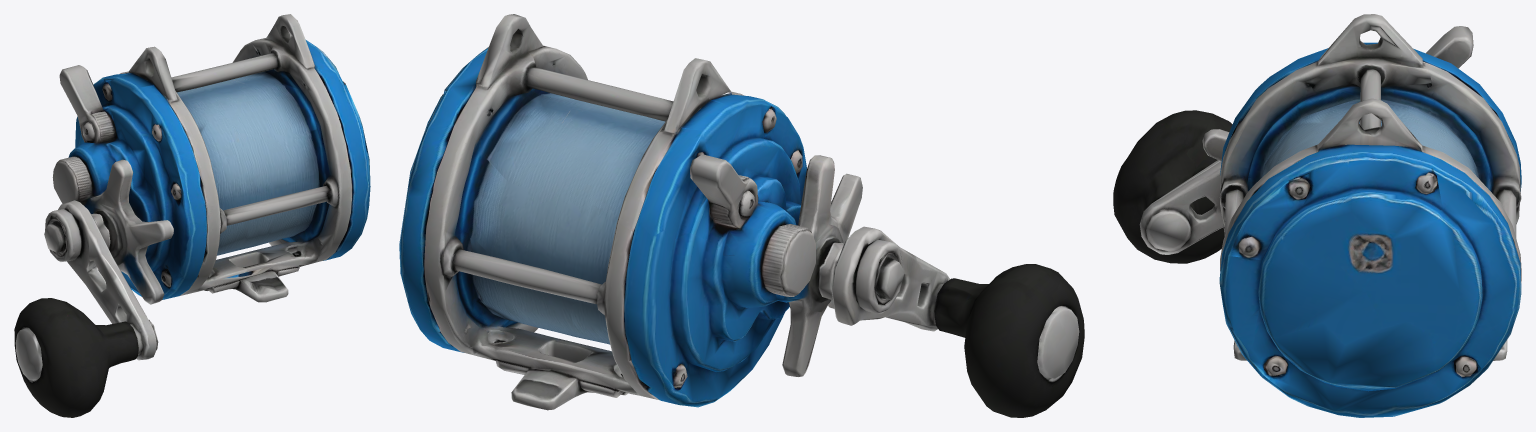
Rendered from gear-reel5.glb.
3 views of the same model, side by side, from view 1: azimuth 30°, elevation 25°; view 2: azimuth 150°, elevation 25°; view 3: azimuth 270°, elevation 25° (orthographic). The views are drawn at different scales.
Parts seen in each view (by area): view 1: tripo_node_ab326090-6f76-41d8-b2b4-ed9439afcd52; view 2: tripo_node_ab326090-6f76-41d8-b2b4-ed9439afcd52; view 3: tripo_node_ab326090-6f76-41d8-b2b4-ed9439afcd52.
Part boxes in pixels (x1,y1,x2,y2): tripo_node_ab326090-6f76-41d8-b2b4-ed9439afcd52: [14, 14, 370, 417]; tripo_node_ab326090-6f76-41d8-b2b4-ed9439afcd52: [399, 14, 1084, 417]; tripo_node_ab326090-6f76-41d8-b2b4-ed9439afcd52: [1113, 14, 1521, 417].
Bounding box in the file's own units: 0.9985 × 0.6995 × 0.7485.
1 material, 1 textured.
